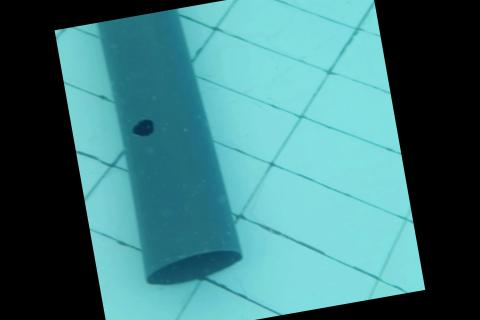kebocoran: (129, 116, 156, 138)
